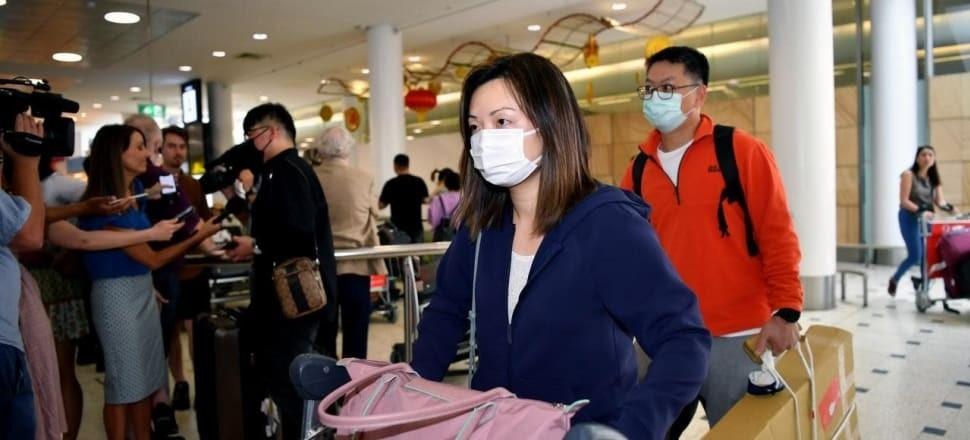face_no_mask: (91, 125, 148, 183), (157, 124, 190, 173), (910, 143, 936, 178)
face_with_mask: (465, 52, 581, 189), (636, 47, 711, 133), (241, 102, 292, 169)
